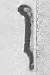H6: (5, 1, 45, 75)
